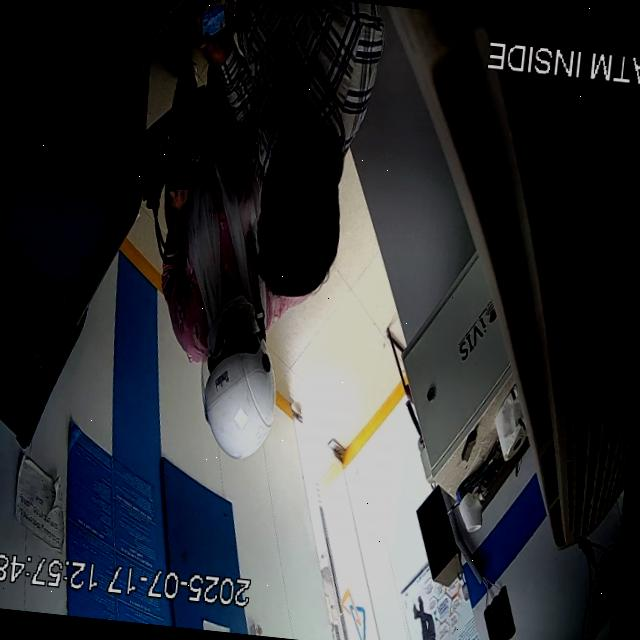helmet: (199, 312, 275, 460)
no_helmet: (256, 113, 341, 295)
